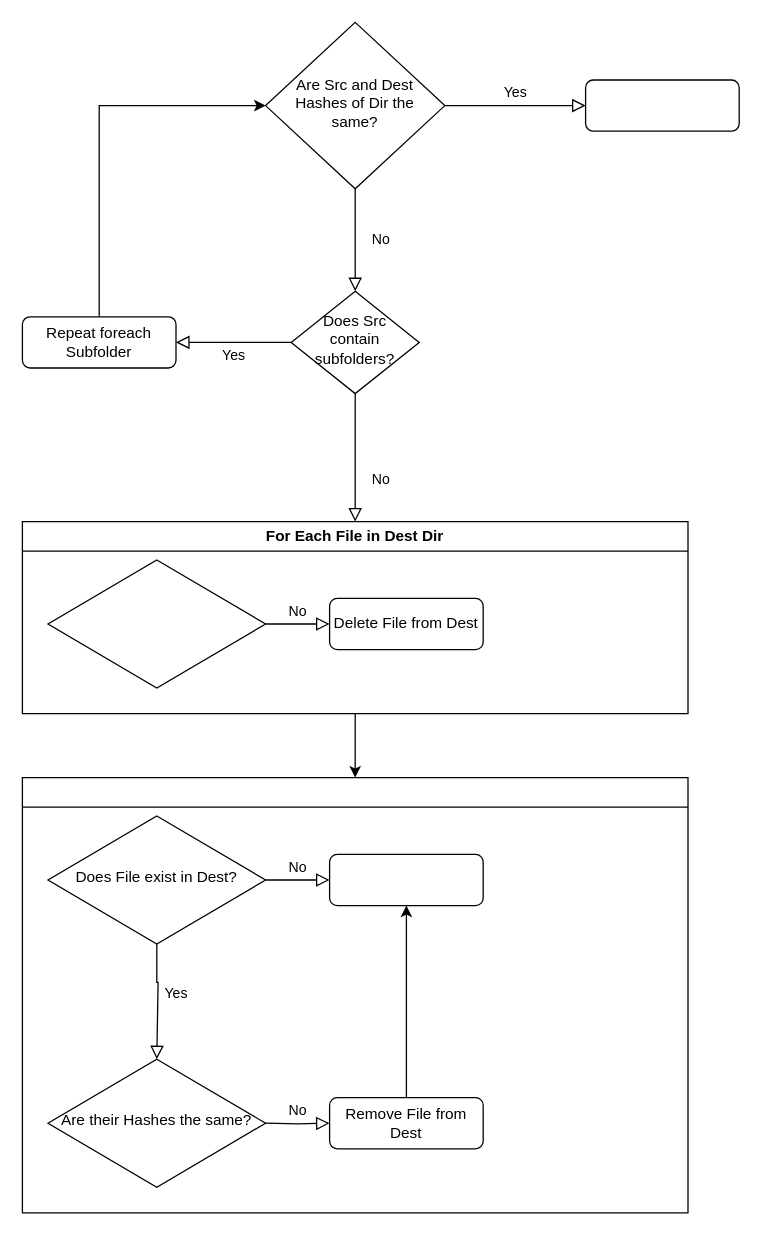
Some shapes in this 762 by 1235 pixel diagram are drawn without their labels. Each missing label, with the box of its shape:
Copy File from Src To Dest: (328, 853, 483, 906)
Does File exist in Src?: (47, 559, 266, 688)
Exit Sync Step for Current Dir: (584, 79, 739, 131)
For Each File in Src Dir: (21, 776, 688, 1213)
